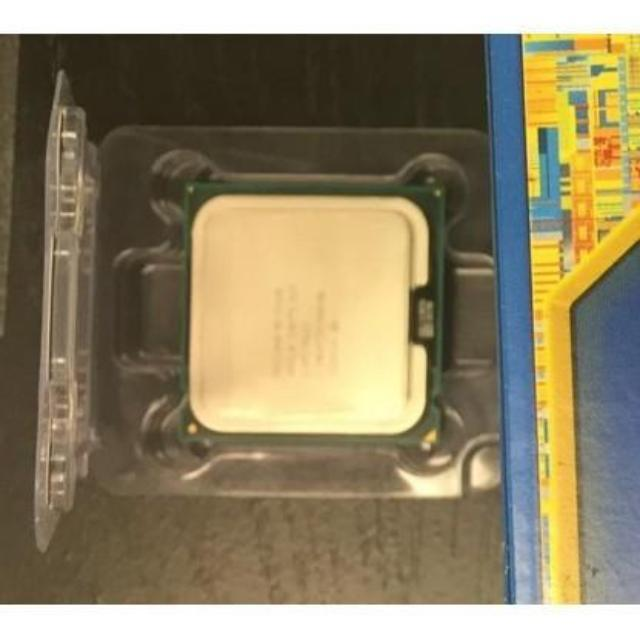CPU: (186, 188, 440, 448)
